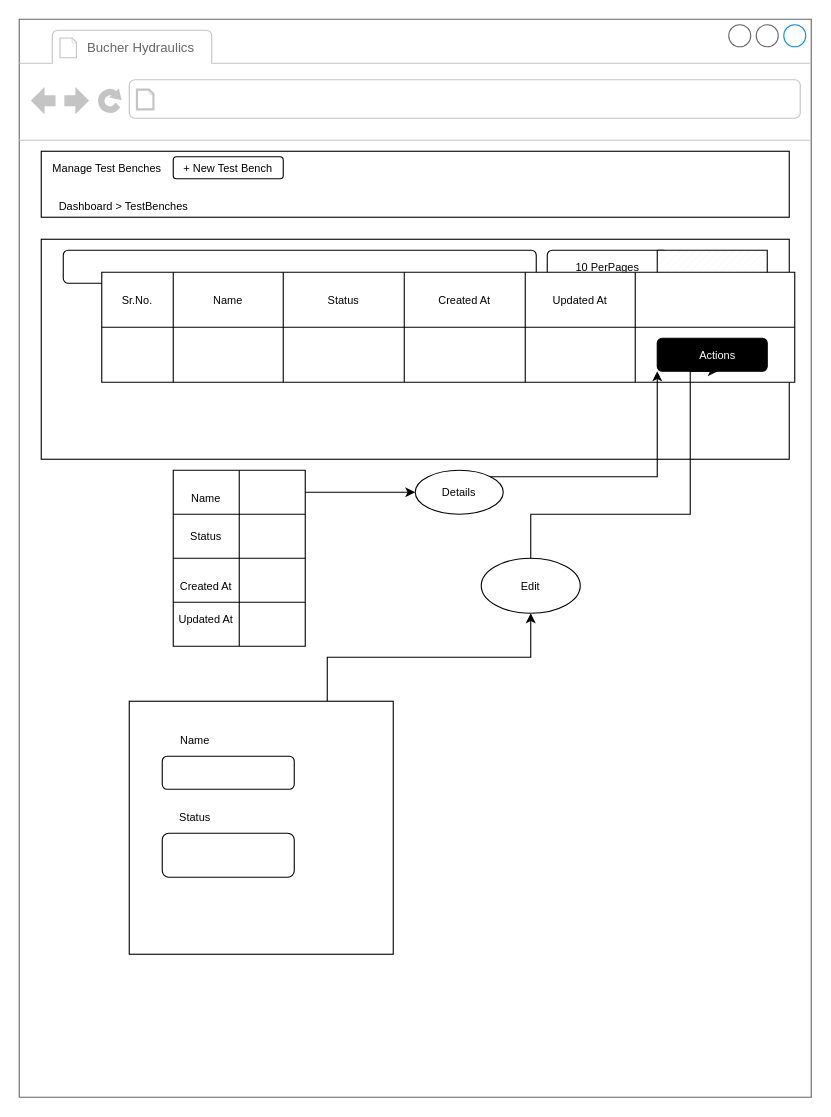
Image size: 831x1117. Some labels were removed from this diagram. The shapes that lost their labels are listed below. From the top down, each one's centre as x and y in pixels, then its label:
the point at 343,99: testing-bhdl.bucherhydraulics.com/secure/test-benches/list
the point at 299,266: Search...
the point at 711,266: Filter
